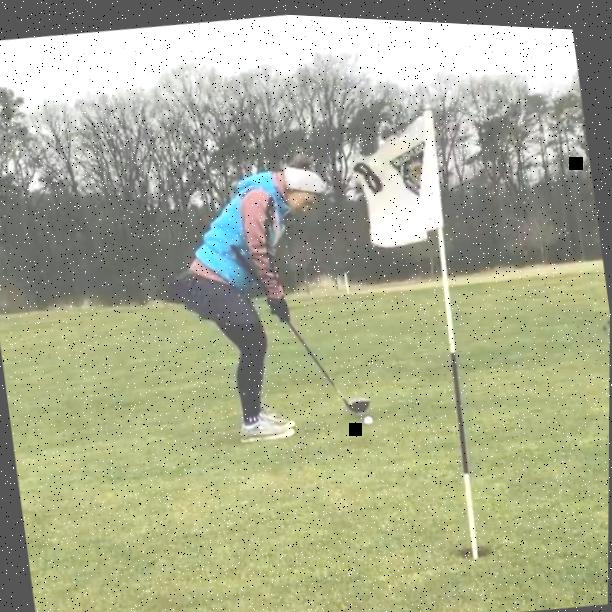ClubHead: (347, 393, 373, 410)
GolfBall: (363, 411, 374, 422)
